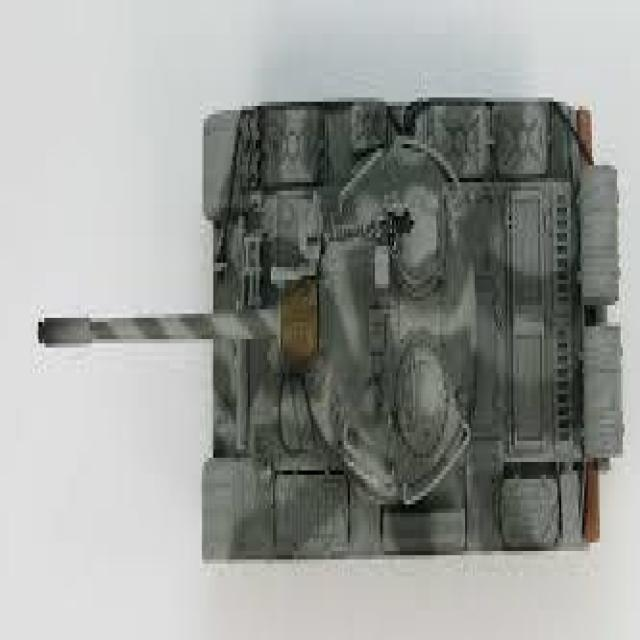Tanks: (195, 89, 616, 564)
